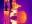Hotspot: (23, 14, 26, 22), (10, 12, 14, 17), (11, 20, 17, 23), (13, 10, 17, 13)
